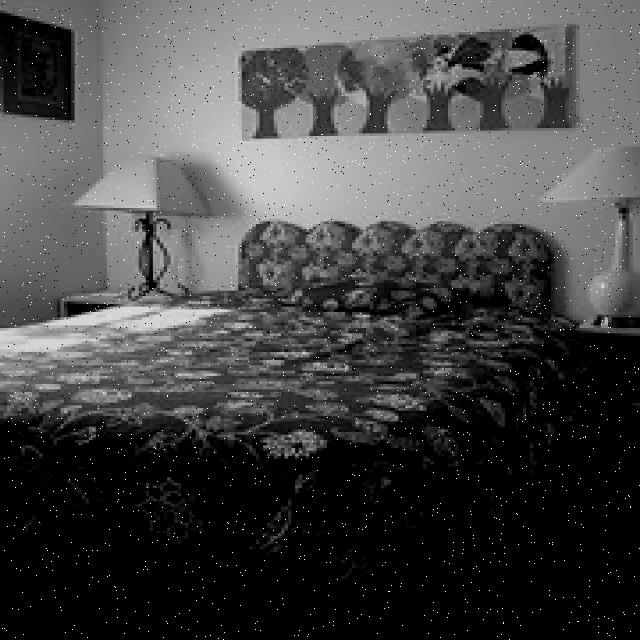bed: (0, 212, 571, 604)
